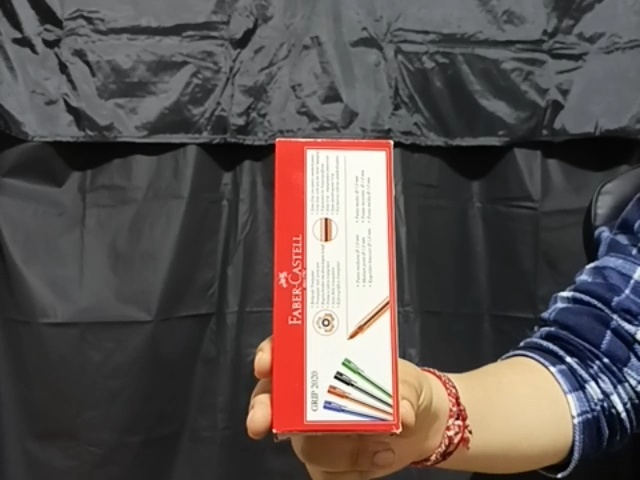xd: (272, 136, 401, 432)
